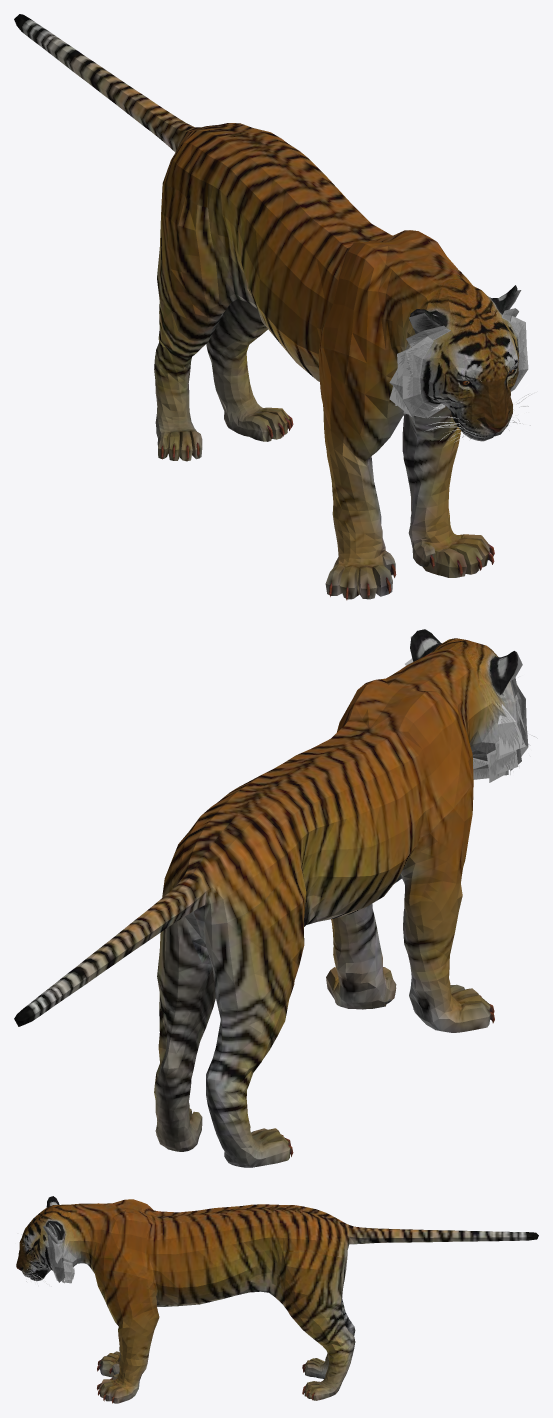
The model's file is stigre01.glb.
The picture shows the model from 3 angles, top to bottom: view 1: azimuth 30°, elevation 25°; view 2: azimuth 150°, elevation 25°; view 3: azimuth 270°, elevation 25°; orthographic projection. The views are drawn at different scales.
Visible parts, largest first — view 1: LLBZERJGLUVCBDZIPXC9EE0E7; view 2: LLBZERJGLUVCBDZIPXC9EE0E7; view 3: LLBZERJGLUVCBDZIPXC9EE0E7.
Part boxes in pixels (left/top/right/bottom): LLBZERJGLUVCBDZIPXC9EE0E7: left=14, top=14, right=531, bottom=600; LLBZERJGLUVCBDZIPXC9EE0E7: left=14, top=629, right=537, bottom=1167; LLBZERJGLUVCBDZIPXC9EE0E7: left=16, top=1196, right=538, bottom=1403.
Bounding box in the file's own units: 0.6357 × 1.22 × 3.23.
Materials: 39 (39 with a texture image).
